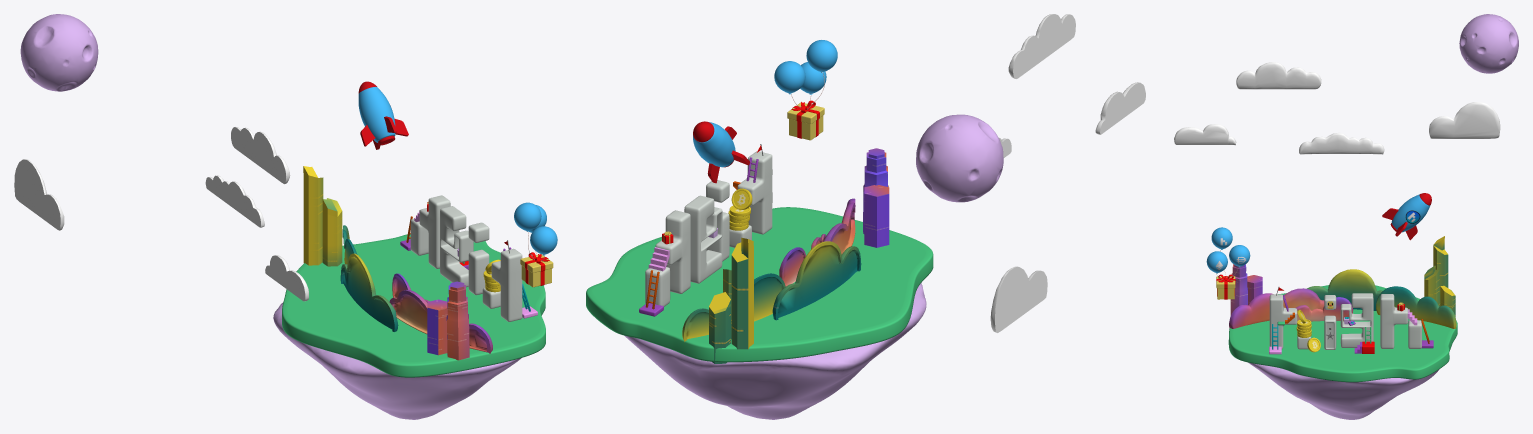
The model's file is island.glb.
3 views of the same model, side by side, from view 1: azimuth 30°, elevation 25°; view 2: azimuth 150°, elevation 25°; view 3: azimuth 270°, elevation 25° (orthographic). The views are drawn at different scales.
Visible parts, largest first — view 1: IslandGrass, IslandUnderside, HighLogo, Clouds, Moon002, Rocket, Bushes_B, Buildings_Right_M, Bushes_A, Builds_Left_L, Buildings_Right_L, Builds_Left_SM (+3 smaller); view 2: IslandGrass, IslandUnderside, HighLogo, Moon002, Clouds, Bushes_B, Buildings_Right_M, Rocket, Bushes_D, Builds_Left_SM, Buildings_Right_SM, Gift_D (+7 smaller); view 3: IslandGrass, Clouds, HighLogo, IslandUnderside, Moon002, Bushes_A, Bushes_D, Bushes_B, Rocket, Bushes_C, Buildings_Right_M, Builds_Left_L (+7 smaller).
Part boxes in pixels (x1,y1,x2,y2): IslandGrass: (282, 234, 545, 377); IslandUnderside: (273, 302, 521, 419); HighLogo: (410, 195, 522, 321); Clouds: (14, 127, 308, 301); Moon002: (20, 14, 98, 91); Rocket: (358, 81, 408, 149); Bushes_B: (340, 253, 398, 331); Buildings_Right_M: (303, 166, 323, 265); Bushes_A: (389, 289, 492, 353); Builds_Left_L: (446, 281, 469, 360); Buildings_Right_L: (322, 198, 342, 266); Builds_Left_SM: (427, 299, 447, 355); IslandGrass: (586, 207, 933, 362); IslandUnderside: (624, 283, 926, 419); HighLogo: (645, 151, 772, 306); Moon002: (916, 114, 1003, 202); Clouds: (990, 14, 1145, 332); Bushes_B: (772, 241, 861, 320); Buildings_Right_M: (731, 237, 753, 349); Rocket: (693, 121, 750, 183); Bushes_D: (682, 273, 785, 341); Builds_Left_SM: (864, 185, 889, 247); Buildings_Right_SM: (709, 292, 730, 363); Gift_D: (787, 100, 824, 140); IslandGrass: (1228, 285, 1457, 382); Clouds: (1174, 62, 1500, 154); HighLogo: (1269, 293, 1421, 349); IslandUnderside: (1248, 362, 1439, 419); Moon002: (1459, 14, 1518, 73); Bushes_A: (1229, 288, 1324, 328); Bushes_D: (1376, 286, 1456, 328); Bushes_B: (1307, 269, 1382, 310); Rocket: (1382, 193, 1431, 240); Bushes_C: (1295, 297, 1353, 321); Buildings_Right_M: (1433, 236, 1448, 306); Builds_Left_L: (1230, 264, 1247, 315).
Size of the model in its own units: 88.64 by 79 by 81.75.
Materials: 14 (3 with a texture image).
